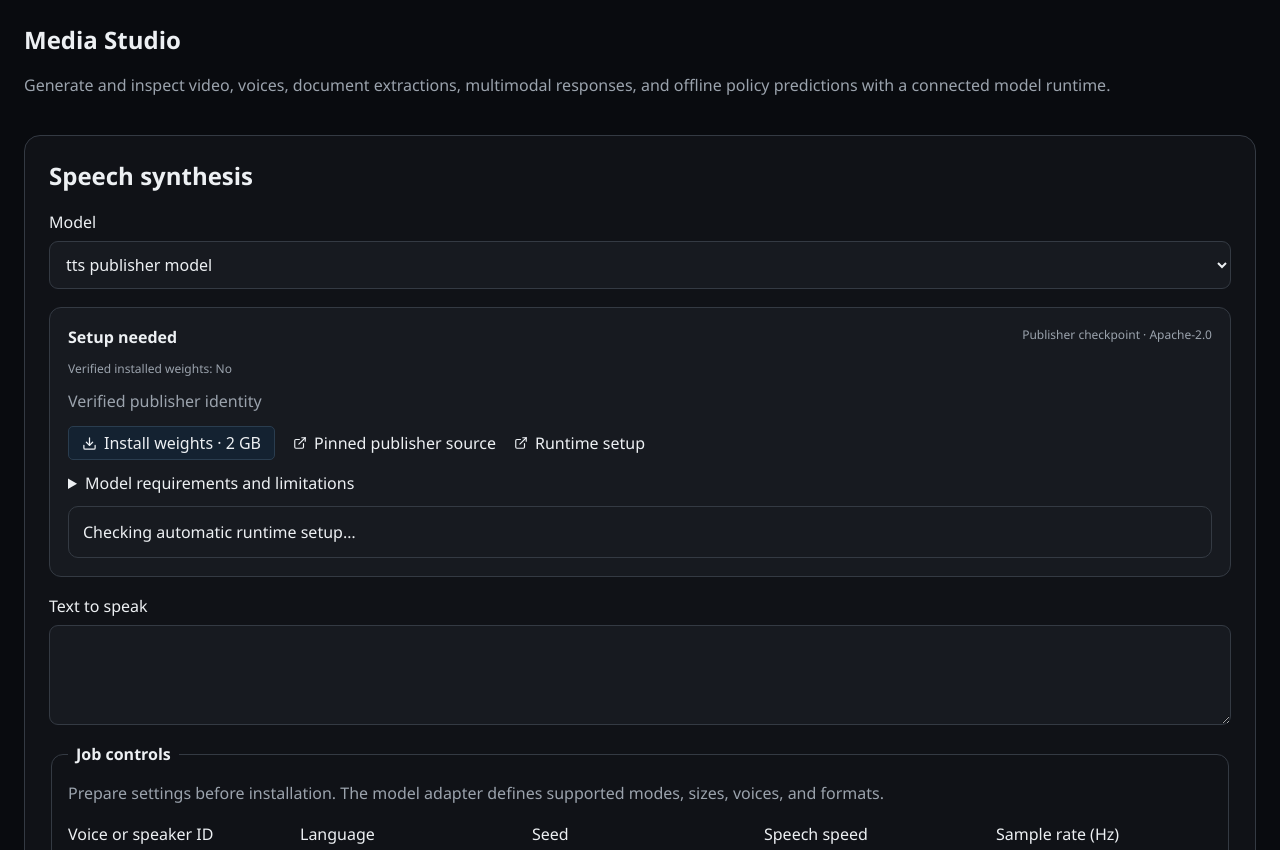
Test: reports a failed background weight transfer after the install command accepts it
Click the button "Install weights · 2 GB" at (172, 443), box [68,426,275,460]
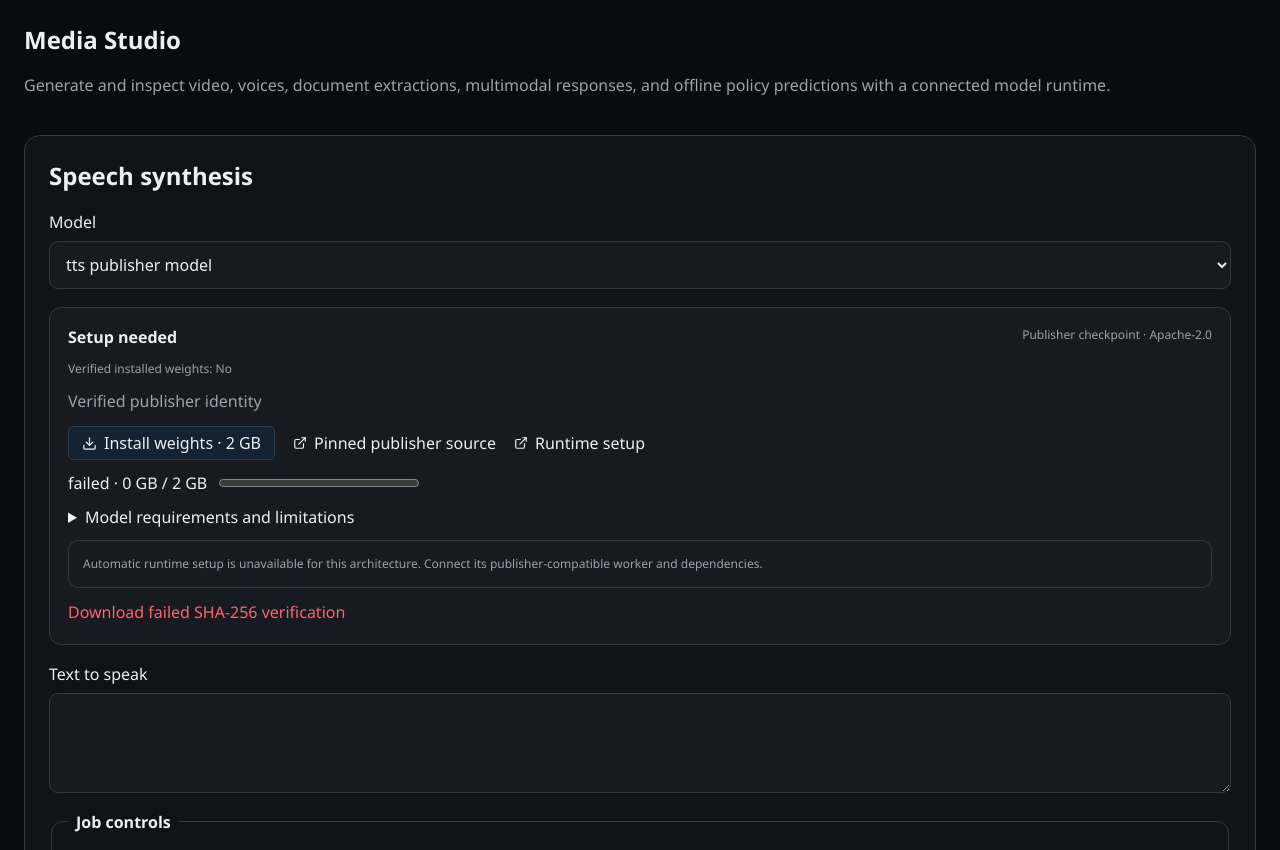
Check: the message "Download failed SHA-256 verification" is shown, box [68,601,345,623]
